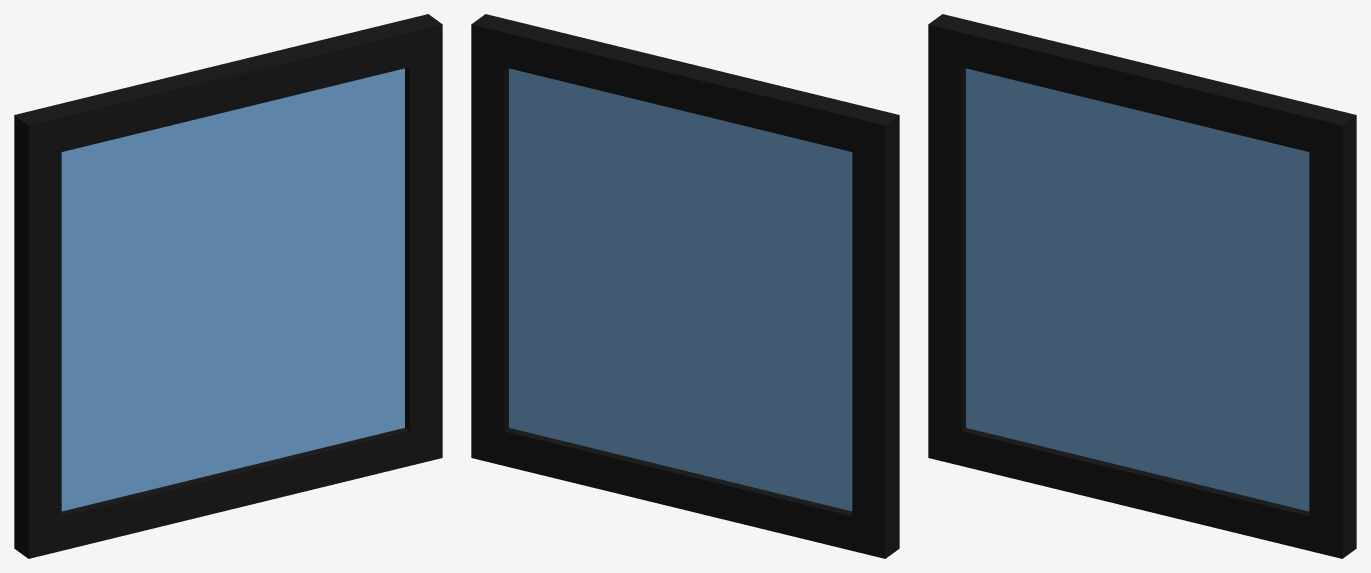
File: Filter.glb
3 renders of one model, left to right at view 1: azimuth 30°, elevation 25°; view 2: azimuth 150°, elevation 25°; view 3: azimuth 330°, elevation 25°, orthographic.
Visible parts, largest first — view 1: Filter; view 2: Filter; view 3: Filter.
Boxes of the visible parts, box(x1,y1,x2,y2) form: Filter: box(14, 14, 442, 558); Filter: box(471, 14, 899, 558); Filter: box(928, 14, 1356, 558).
Size of the model in its own units: 0.25 by 0.25 by 0.015.
